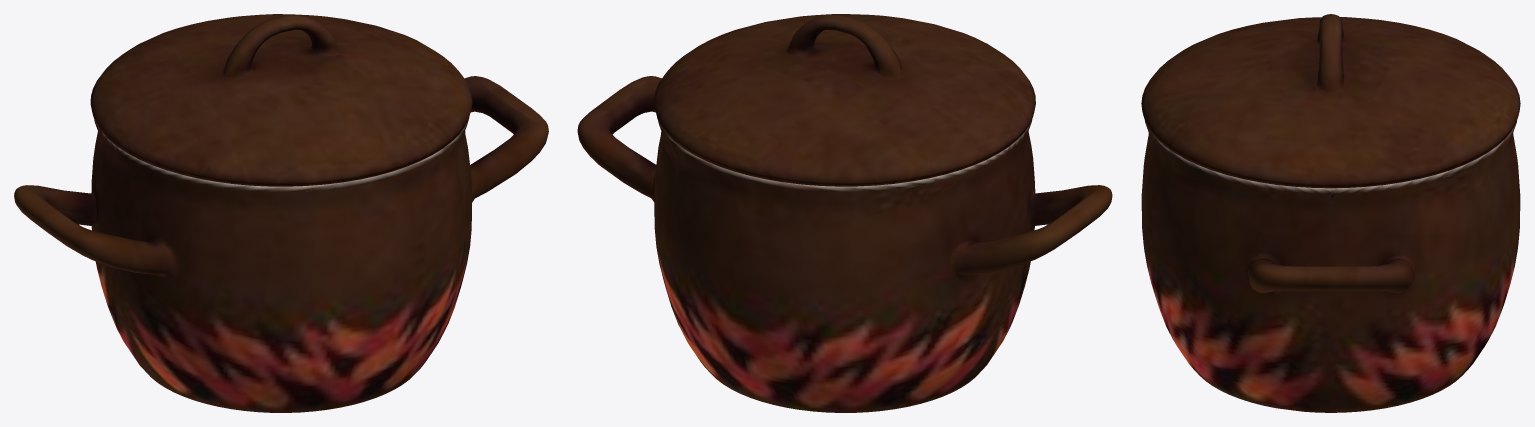
The model's file is ph_pot_enamel_01.glb.
3 views of the same model, side by side, from view 1: azimuth 30°, elevation 25°; view 2: azimuth 150°, elevation 25°; view 3: azimuth 270°, elevation 25° (orthographic).
Visible parts, largest first — view 1: pot_enamel_01_lid; view 2: pot_enamel_01_lid; view 3: pot_enamel_01_lid.
Boxes of the visible parts, box(x1,y1,x2,y2) form: pot_enamel_01_lid: box(14, 14, 548, 412); pot_enamel_01_lid: box(577, 14, 1112, 412); pot_enamel_01_lid: box(1141, 14, 1520, 412).
Size of the model in its own units: 0.2627 by 0.1782 by 0.1805.
Materials: 1 (1 with a texture image).
